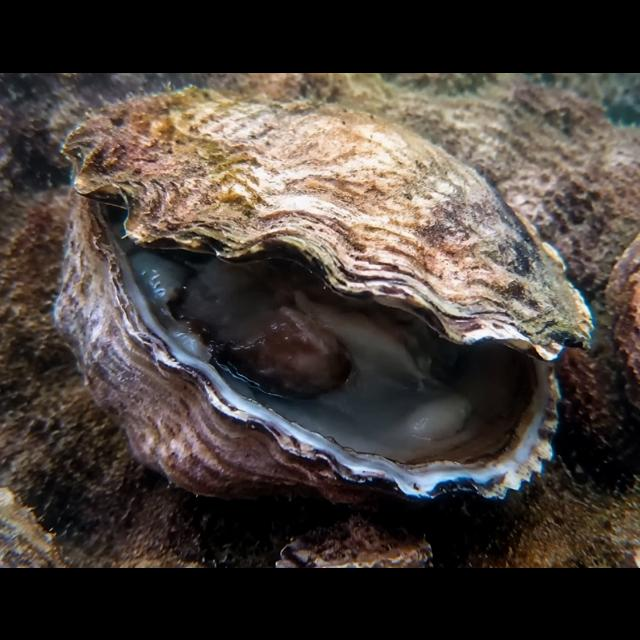Oyster-Open: (55, 82, 592, 510)
